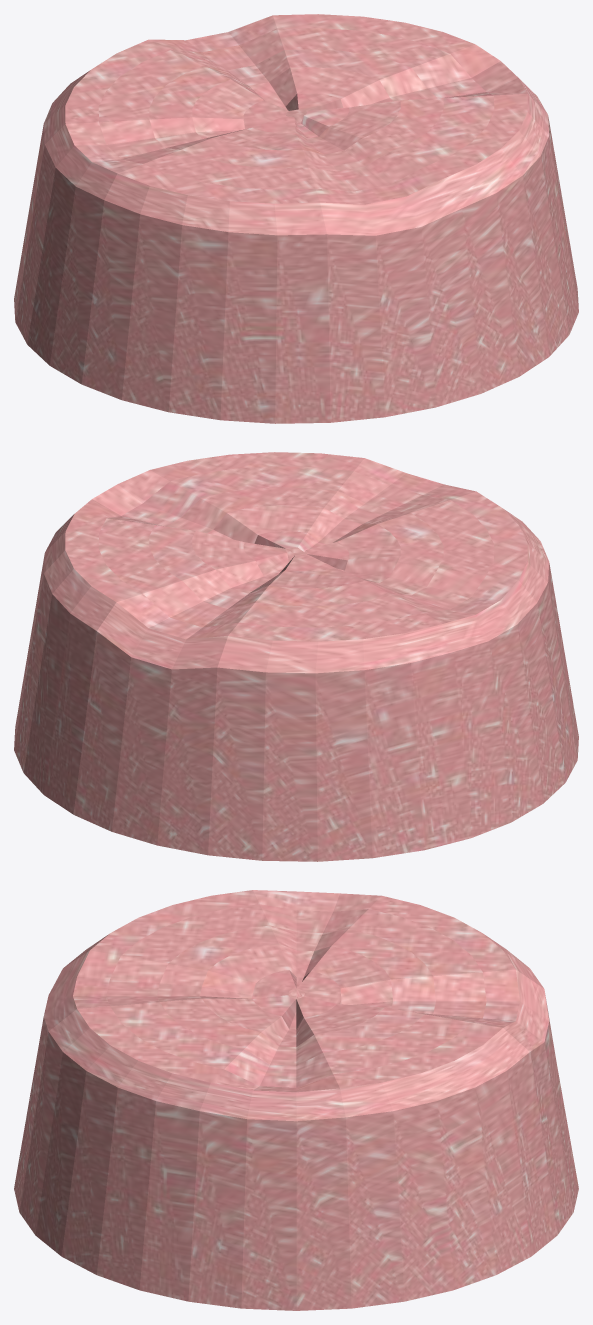
File: poof.fbx
The picture shows the model from 3 angles, top to bottom: view 1: azimuth 30°, elevation 25°; view 2: azimuth 150°, elevation 25°; view 3: azimuth 270°, elevation 25°; orthographic projection.
Visible parts, largest first — view 1: Cylinder; view 2: Cylinder; view 3: Cylinder.
Boxes of the visible parts, <box> form: Cylinder: <box>14,14,578,423</box>; Cylinder: <box>14,452,578,861</box>; Cylinder: <box>14,890,578,1310</box>.
Bounding box in the file's own units: 216 × 82.3 × 211.
